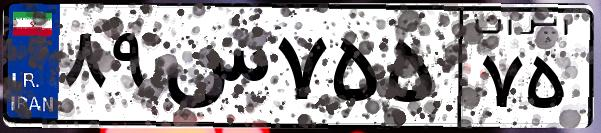5: (385, 28, 445, 110), (330, 28, 385, 110), (525, 38, 570, 115)
7: (270, 28, 330, 110), (475, 38, 525, 113)
8: (57, 26, 110, 100)
9: (110, 28, 158, 98)
س: (158, 20, 270, 120)
